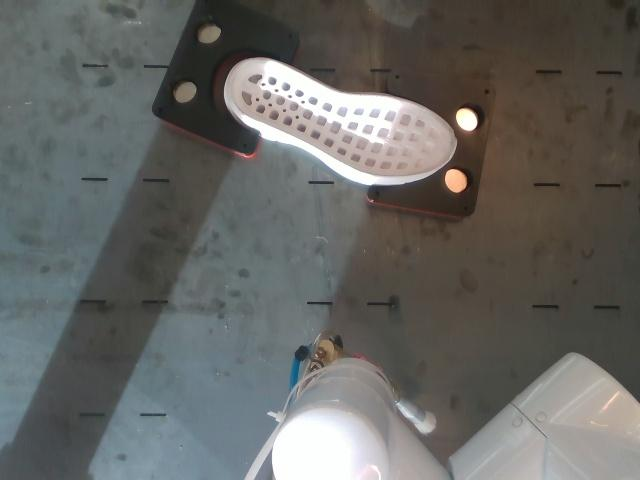shoes: (230, 59, 455, 177)
